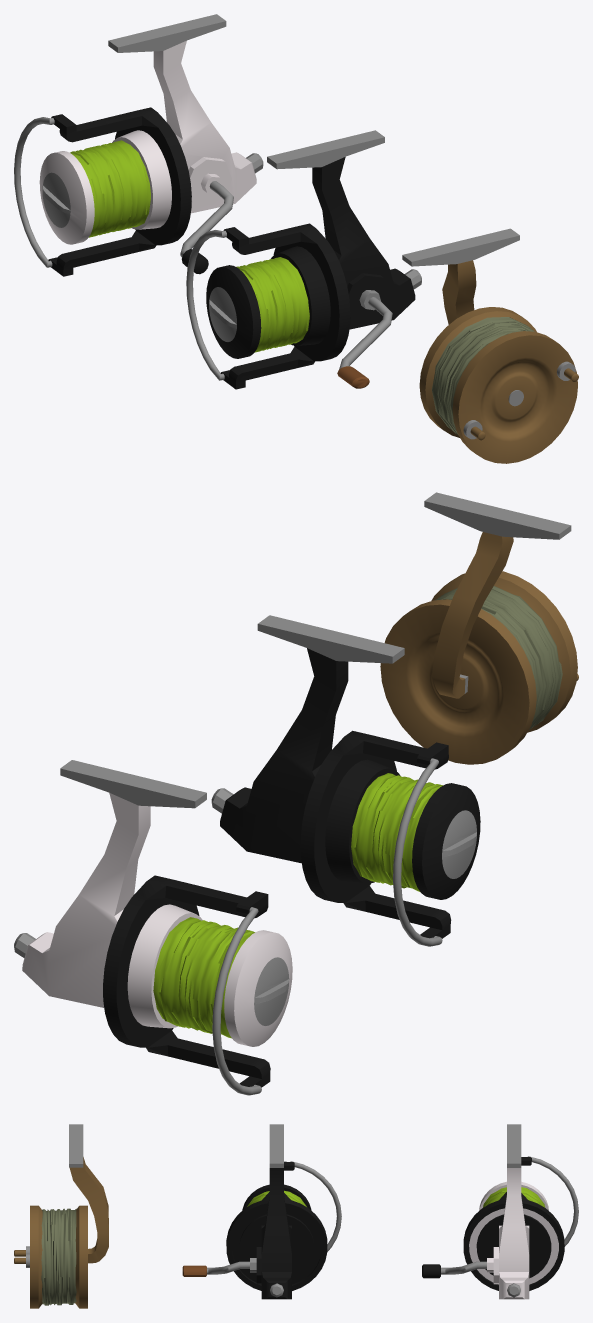
The model's file is kolowrotki.fbx.
The picture shows the model from 3 angles, top to bottom: view 1: azimuth 30°, elevation 25°; view 2: azimuth 150°, elevation 25°; view 3: azimuth 270°, elevation 25°; orthographic projection. The views are drawn at different scales.
Visible parts, largest first — view 1: Cube.009, Cube.002, Cube.001, Cube.006, Cube.005, Cube.008, Cube.004, Cube.003, Cube.007, Cube.011, Cube.012; view 2: Cube.002, Cube.009, Cube.001, Cube.006, Cube.005, Cube.003, Cube.008, Cube.004, Cube.007; view 3: Cube.005, Cube.006, Cube.009, Cube.002, Cube.007, Cube.001, Cube.003, Cube.012, Cube.011, Cube.008.
Boxes of the visible parts, <box> form: Cube.009: <box>39,14,263,244</box>; Cube.002: <box>206,130,421,358</box>; Cube.001: <box>419,307,578,463</box>; Cube.006: <box>14,107,191,276</box>; Cube.005: <box>186,223,350,389</box>; Cube.008: <box>70,140,150,237</box>; Cube.004: <box>236,257,309,352</box>; Cube.003: <box>402,228,519,324</box>; Cube.007: <box>432,317,534,435</box>; Cube.011: <box>337,297,392,388</box>; Cube.012: <box>180,181,233,274</box>; Cube.002: <box>211,615,480,899</box>; Cube.009: <box>14,760,292,1046</box>; Cube.001: <box>380,571,578,764</box>; Cube.006: <box>103,875,270,1095</box>; Cube.005: <box>300,730,451,946</box>; Cube.003: <box>424,492,571,698</box>; Cube.008: <box>153,917,255,1038</box>; Cube.004: <box>351,773,442,891</box>; Cube.007: <box>435,586,562,729</box>; Cube.005: <box>226,1161,341,1290</box>; Cube.006: <box>463,1156,578,1290</box>; Cube.009: <box>479,1124,548,1299</box>; Cube.002: <box>242,1124,311,1299</box>; Cube.007: <box>41,1208,76,1305</box>; Cube.001: <box>14,1205,87,1308</box>; Cube.003: <box>69,1124,108,1263</box>; Cube.012: <box>422,1261,486,1278</box>; Cube.011: <box>182,1261,249,1276</box>; Cube.008: <box>483,1187,545,1207</box>.
Bounding box in the file's own units: 2390 × 2374 × 7465.
